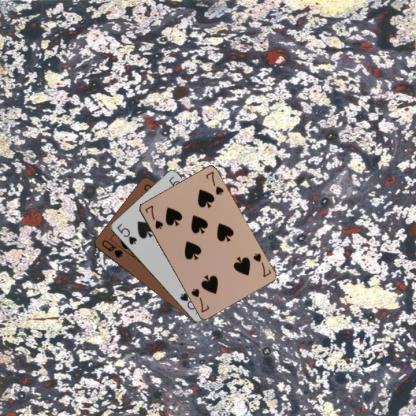5s: (114, 221, 138, 246)
7s: (250, 250, 272, 279), (142, 203, 164, 230)
Qs: (98, 238, 124, 260)
